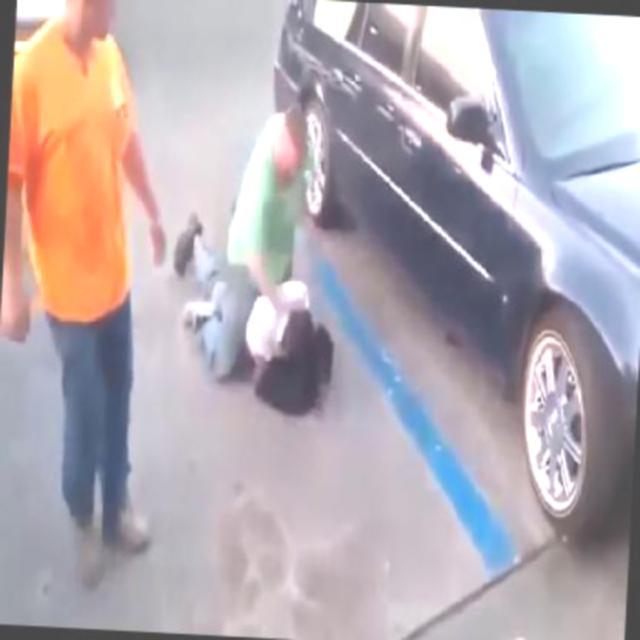fight: (162, 97, 340, 416)
